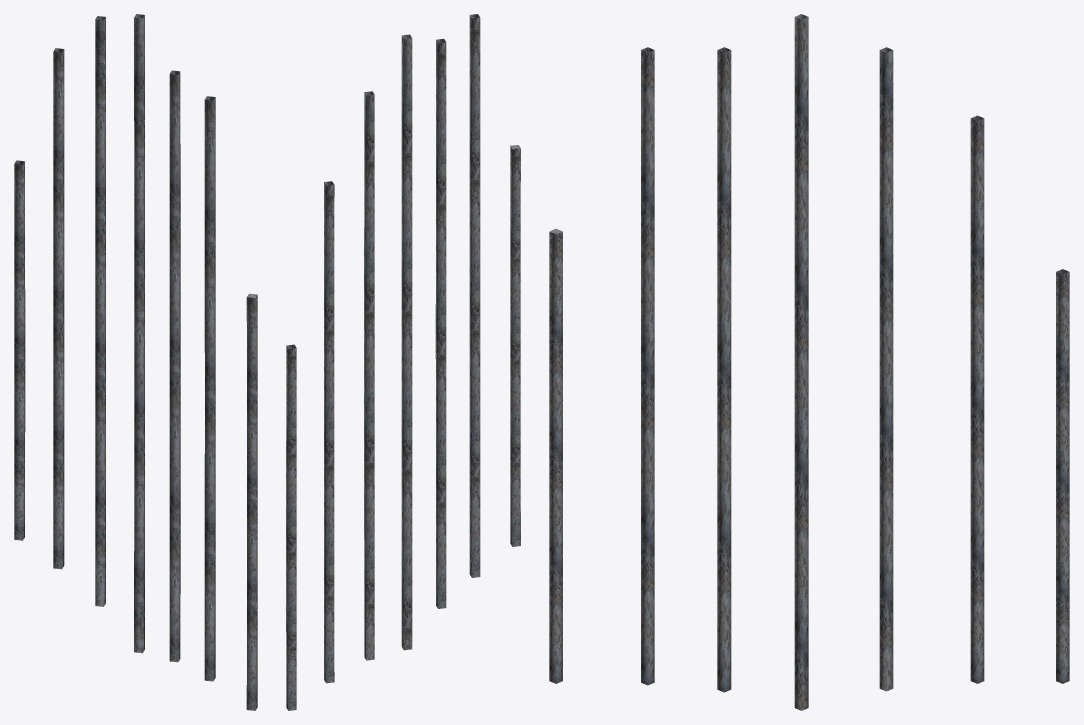
File: INST_EKH_OUBGATE.fbx
3 views of the same model, side by side, from view 1: azimuth 30°, elevation 25°; view 2: azimuth 150°, elevation 25°; view 3: azimuth 270°, elevation 25° (orthographic). The views are drawn at different scales.
Visible parts, largest first — view 1: INST_EKH_OUBGATE; view 2: INST_EKH_OUBGATE; view 3: INST_EKH_OUBGATE.
Boxes of the visible parts, left/top/right/bottom form: INST_EKH_OUBGATE: left=14, top=14, right=257, bottom=710; INST_EKH_OUBGATE: left=286, top=14, right=520, bottom=710; INST_EKH_OUBGATE: left=549, top=14, right=1069, bottom=710.
Size of the model in its own units: 606 by 33385 by 22776.
1 material, 1 textured.
